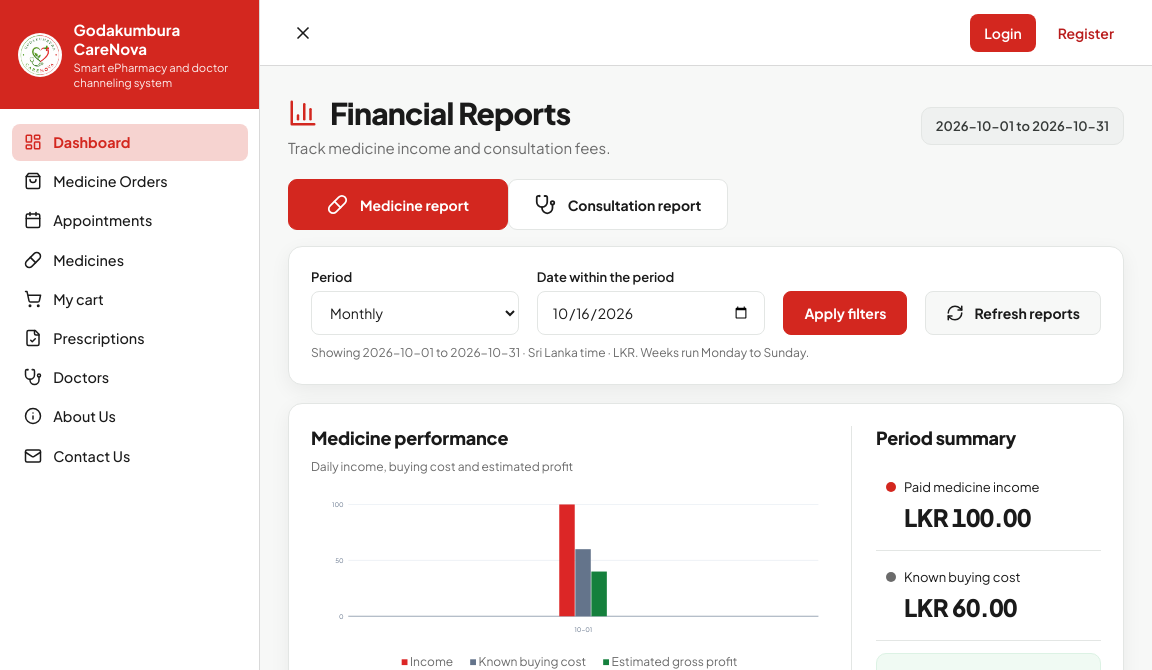
Test case: validates an empty date without changing the applied period
Expected: the picture named "Medicine income, buying cost and estimated profit chart" is shown, [311,493,827,642]
Clear the date field labelled "Date within the period" at (651, 313), box [537,291,765,335]
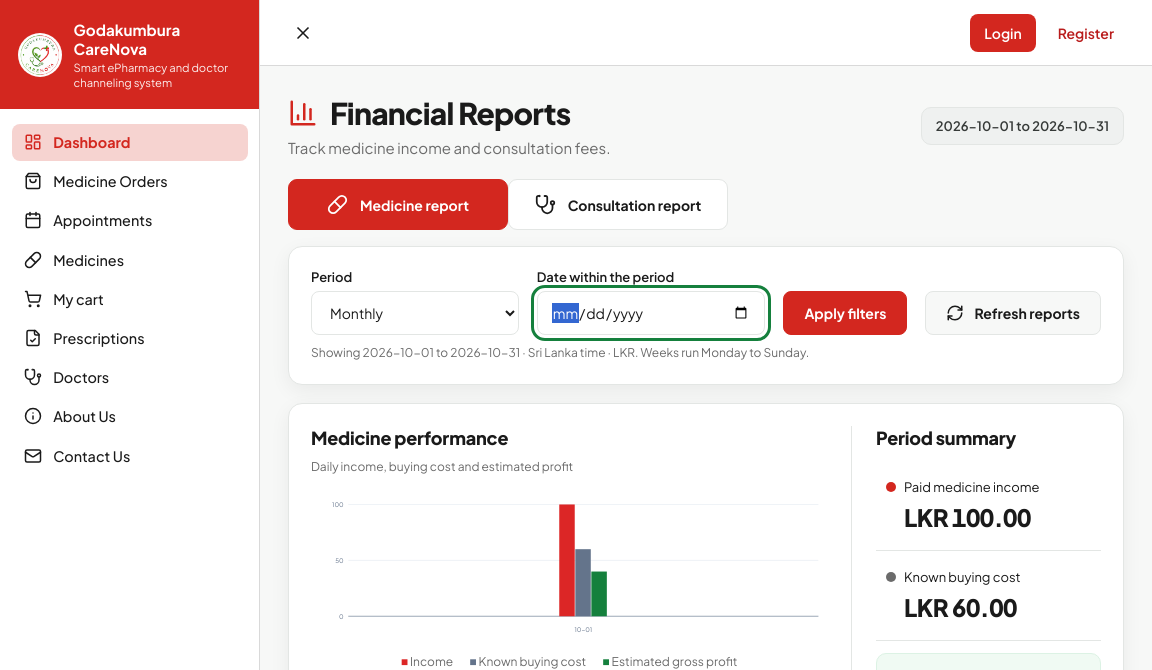
Click the button "Apply filters" at (845, 313), box [783,291,907,335]
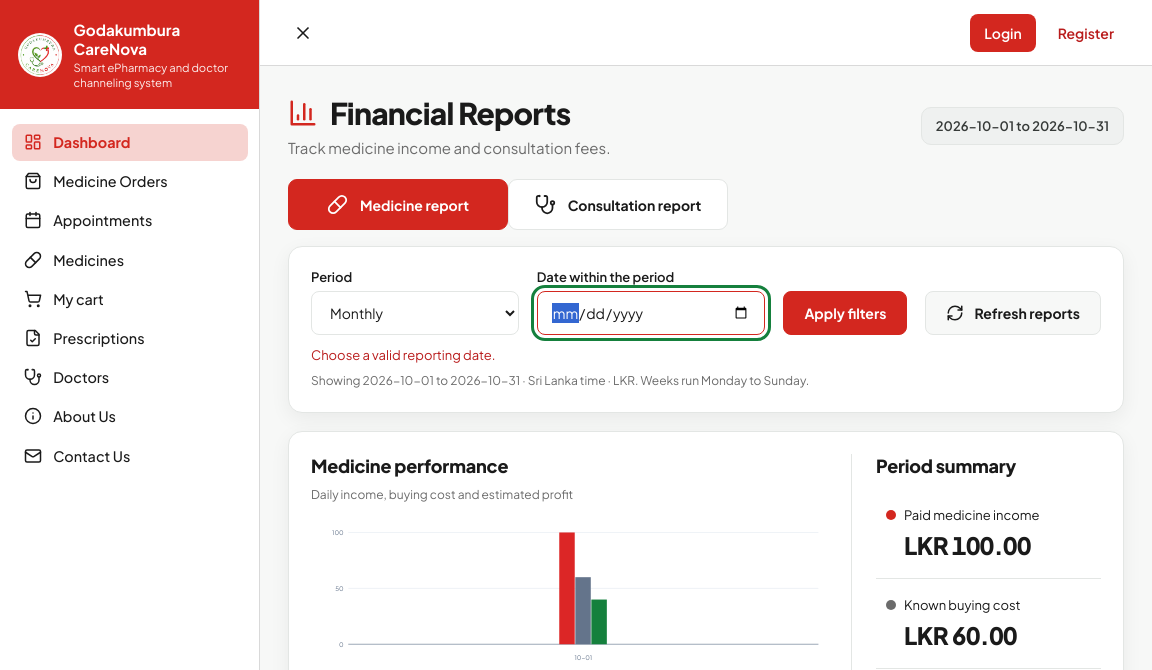
Now the message shows "Choose a valid reporting date", box [311,347,496,363]
